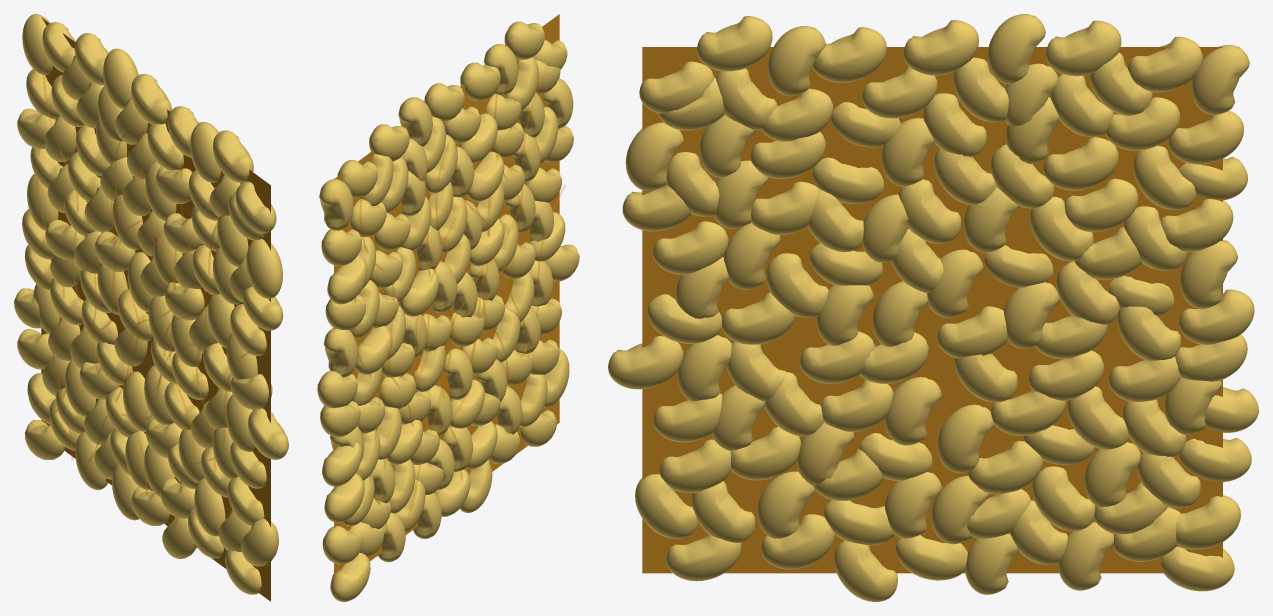
The model's file is Natto.fbx.
The picture shows the model from 3 angles, left to right: view 1: azimuth 30°, elevation 25°; view 2: azimuth 150°, elevation 25°; view 3: azimuth 270°, elevation 25°; orthographic projection. The views are drawn at different scales.
Parts seen in each view (by area): view 1: pPlane1, bean125, bean118, bean126, bean127, bean116, bean106, bean124, bean88, bean93, bean128, bean119 (+107 smaller); view 2: pPlane1, bean119, bean135, bean132, bean131, bean120, bean84, bean134, bean51, bean129, bean118, bean81 (+109 smaller); view 3: pPlane1, bean126, bean127, bean128, bean116, bean114, bean124, bean118, bean110, bean66, bean119, bean129 (+103 smaller).
Part boxes in pixels (x1,y1,x2,y2): pPlane1: [41, 17, 270, 601]; bean125: [246, 239, 282, 298]; bean118: [103, 48, 138, 109]; bean126: [212, 130, 253, 182]; bean127: [131, 73, 171, 124]; bean116: [248, 408, 288, 459]; bean106: [241, 519, 278, 566]; bean124: [190, 122, 220, 182]; bean88: [235, 181, 276, 233]; bean93: [194, 478, 225, 536]; bean128: [74, 33, 108, 85]; bean119: [22, 14, 52, 74]; pPlane1: [334, 14, 559, 575]; bean119: [319, 179, 353, 230]; bean135: [327, 255, 367, 304]; bean132: [330, 552, 370, 601]; bean131: [324, 473, 364, 522]; bean120: [323, 328, 358, 377]; bean84: [355, 326, 392, 374]; bean134: [322, 442, 362, 486]; bean51: [400, 268, 439, 316]; bean129: [321, 229, 361, 265]; bean118: [398, 97, 432, 146]; bean81: [466, 151, 504, 201]; pPlane1: [642, 47, 1222, 573]; bean126: [697, 16, 772, 71]; bean127: [903, 20, 978, 75]; bean128: [1046, 20, 1121, 76]; bean116: [608, 336, 683, 389]; bean114: [812, 27, 886, 82]; bean124: [768, 26, 825, 96]; bean118: [987, 14, 1045, 83]; bean110: [1128, 36, 1202, 92]; bean66: [1043, 137, 1118, 190]; bean119: [1191, 45, 1249, 114]; bean129: [1168, 110, 1243, 164].
Bounding box in the file's own units: 2.69 × 33.4 × 33.62.
